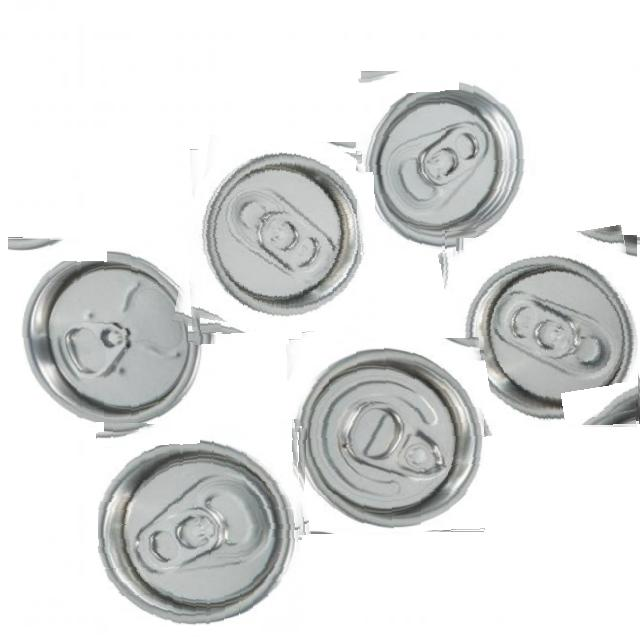recyclable: (96, 422, 307, 634), (180, 142, 383, 345), (9, 235, 211, 438), (445, 231, 640, 432), (287, 338, 484, 535), (355, 74, 536, 255)
